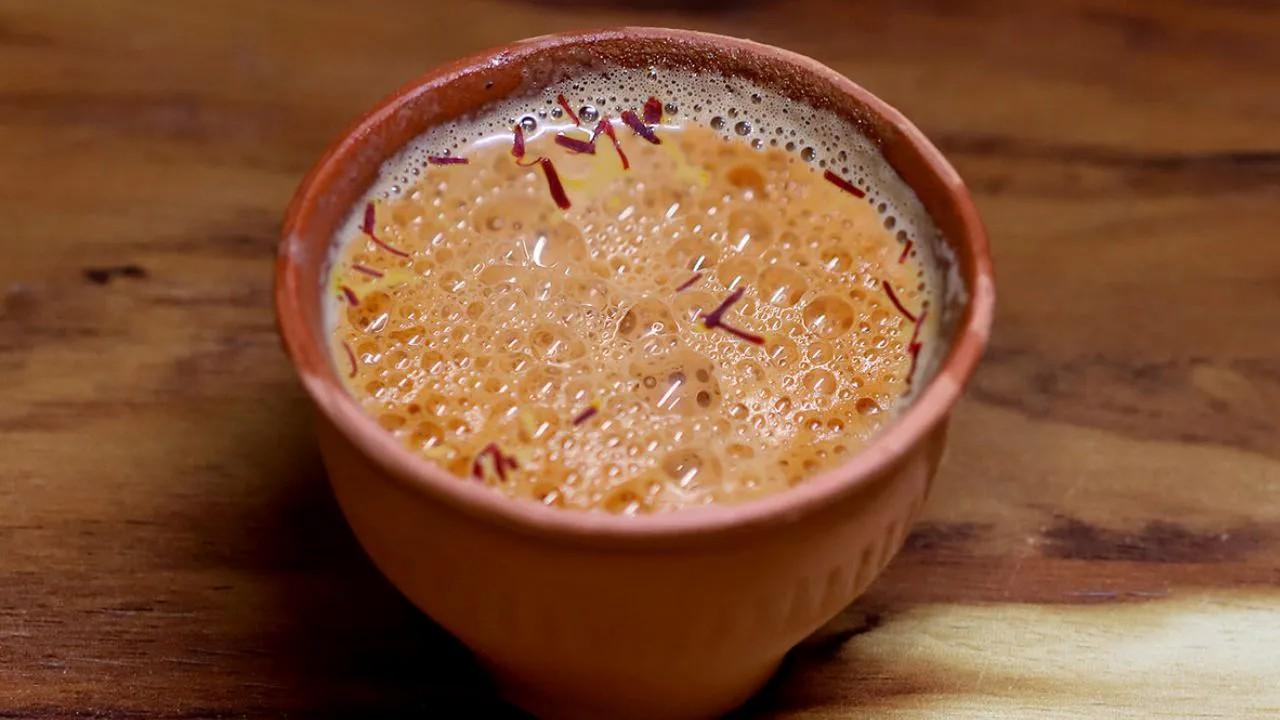Chai: (347, 85, 943, 522)
